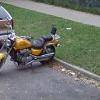Motorcycle: (2, 25, 65, 74)
